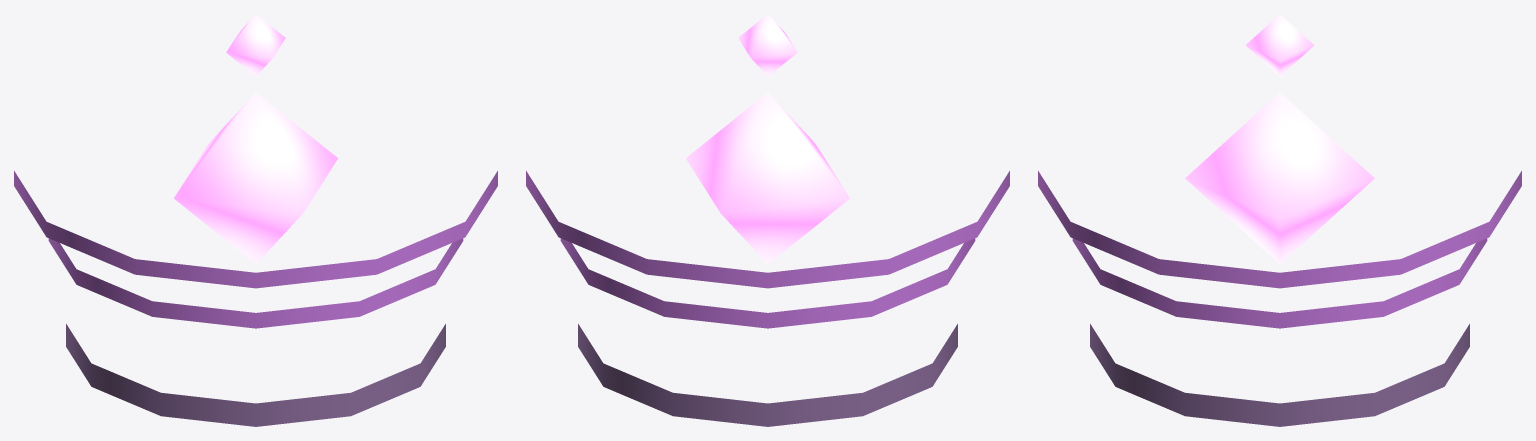
Rendered from nucleo_mana.glb.
3 renders of one model, left to right at view 1: azimuth 30°, elevation 25°; view 2: azimuth 150°, elevation 25°; view 3: azimuth 270°, elevation 25°, orthographic.
Parts seen in each view (by area): view 1: Glow, Accent, Base; view 2: Glow, Accent, Base; view 3: Glow, Accent, Base.
Part boxes in pixels (x1,y1,x2,y2): Glow: [174, 14, 337, 263]; Accent: [14, 171, 497, 328]; Base: [66, 324, 445, 426]; Glow: [686, 14, 849, 263]; Accent: [526, 171, 1009, 328]; Base: [578, 324, 957, 426]; Glow: [1185, 14, 1374, 263]; Accent: [1038, 171, 1521, 328]; Base: [1090, 324, 1469, 426].
Bounding box in the file's own units: 0.56 × 0.425 × 0.56.
